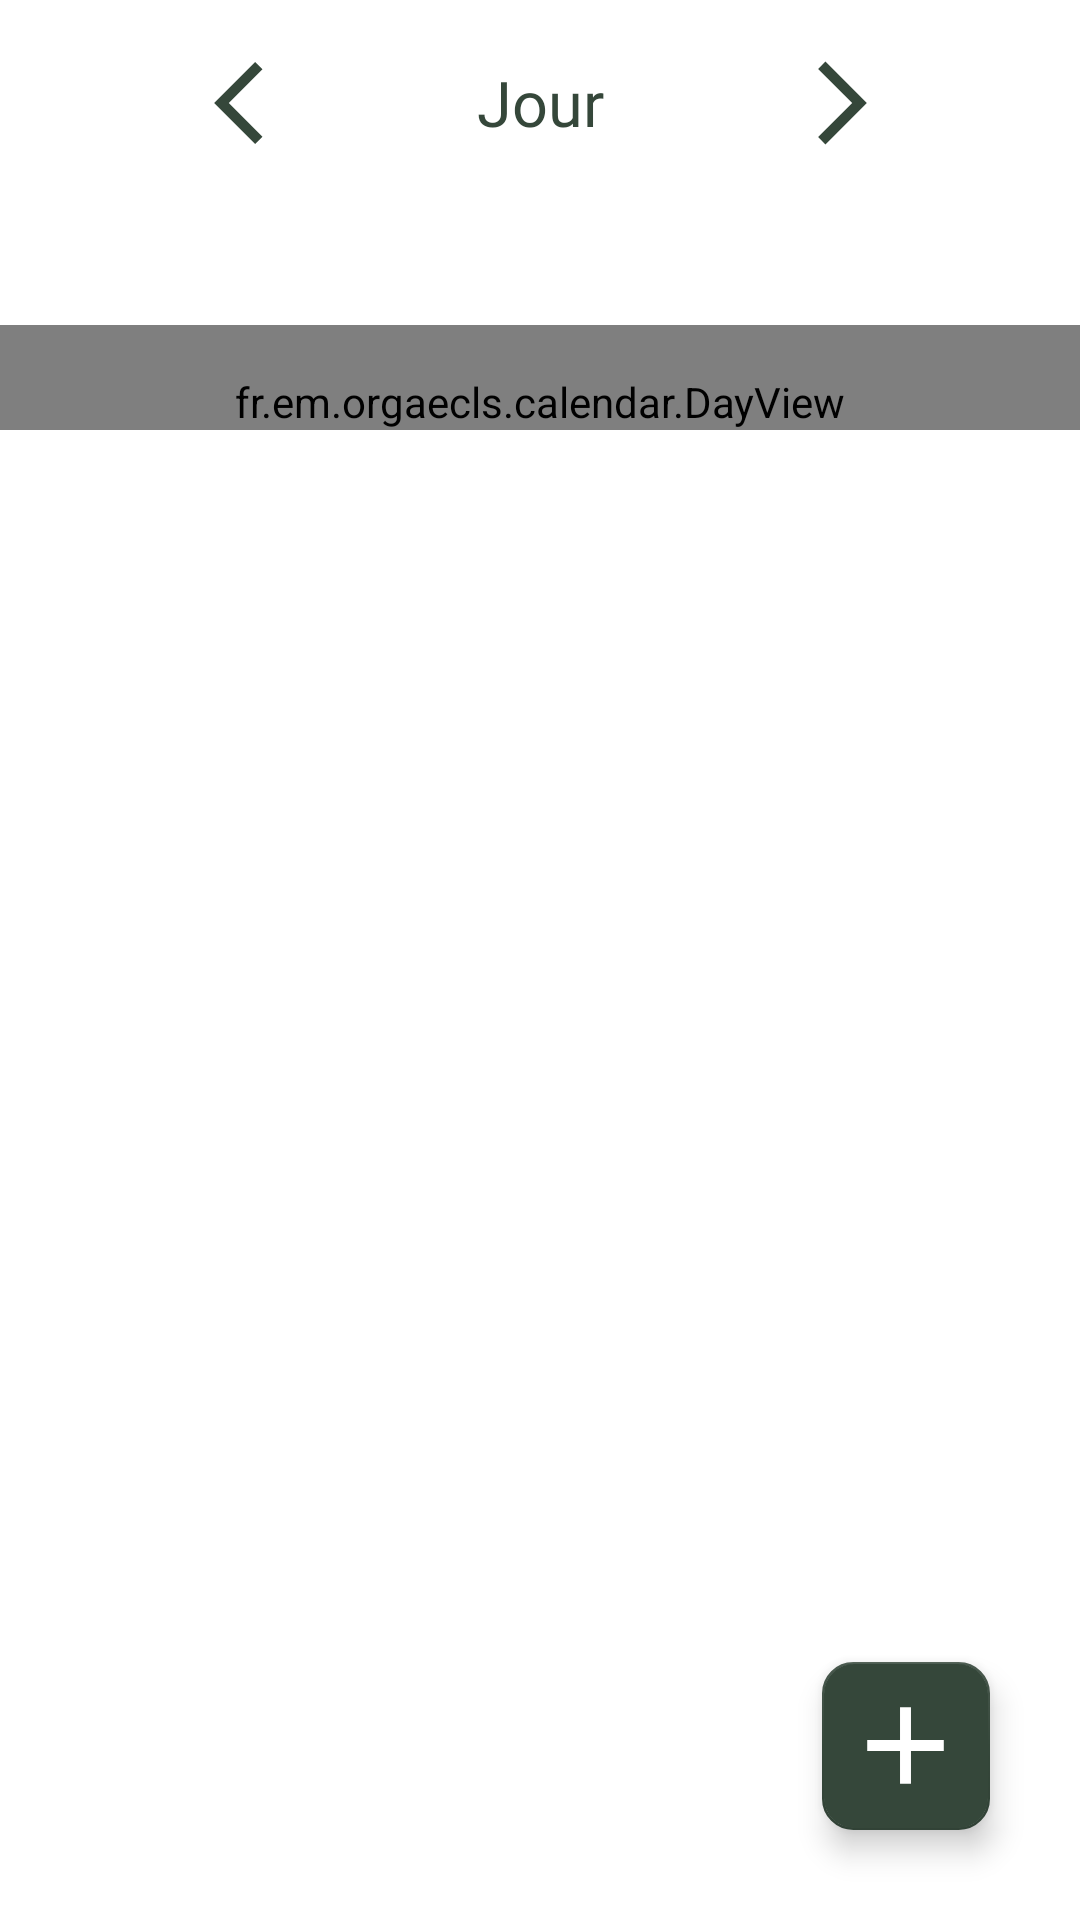

Icons on this 1080×1920 Android screen, each with the point to tap as point (x, y):
add: point (906, 1746)
back: point (238, 103)
next: point (842, 103)
